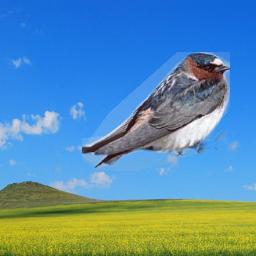Swallow: (82, 52, 230, 171)
